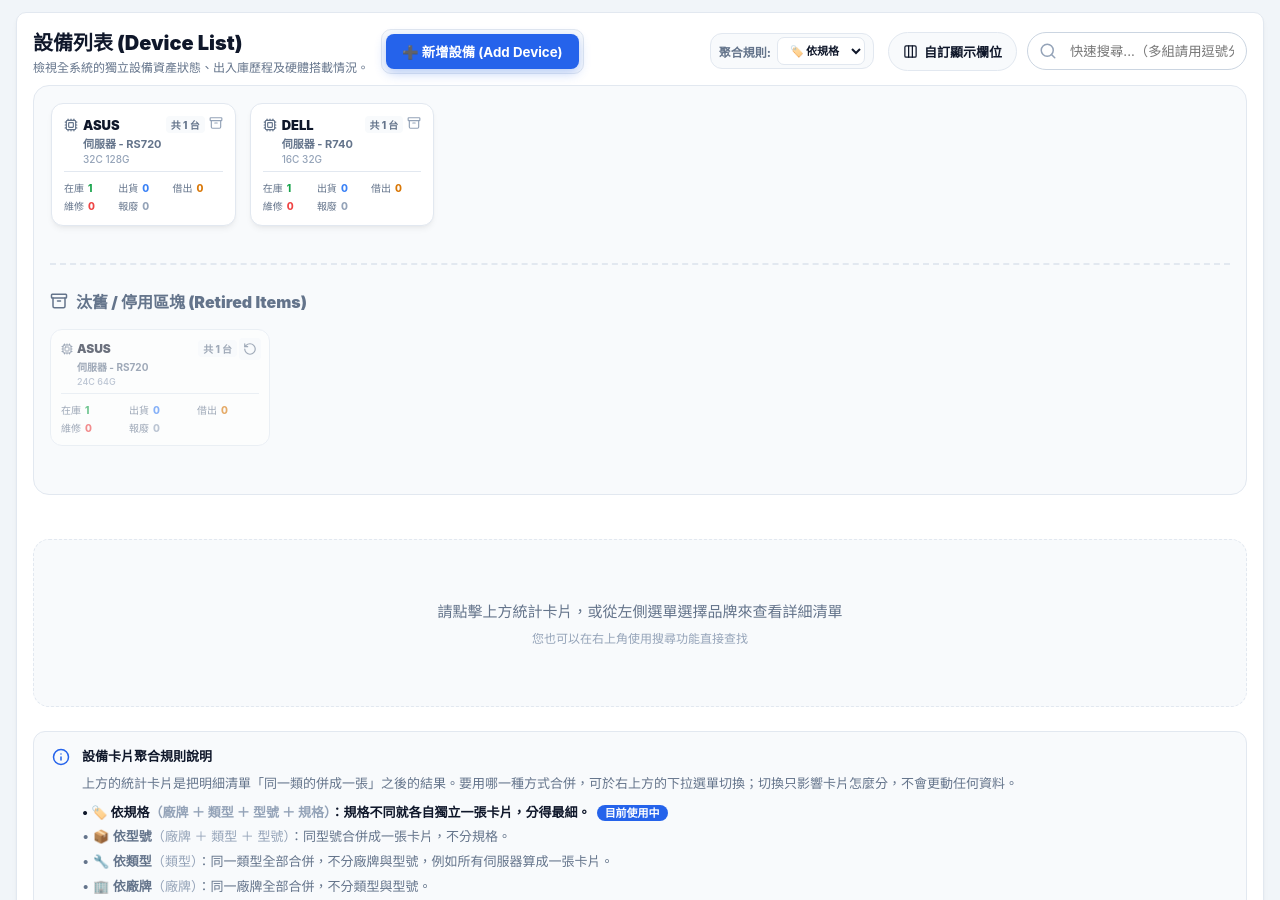
Test: 卡片聚合規則與汰舊區聯動測試 (Card Aggregation & Retire Rules) › DeviceList: 在規格或型號模式下將一項卡片移至汰舊區，改為依廠牌時，汰舊區項目不應被加入使用中卡片計算
Expected: the heading "汰舊 / 停用區塊 (Retired Items)" is shown, [50,292,307,312]
切換為「依廠牌」模式（聚合規則已改為下拉選單）
Select "🏢 依廠牌" in the dropdown labelled "聚合規則:" at (821, 51), box [777,37,865,65]
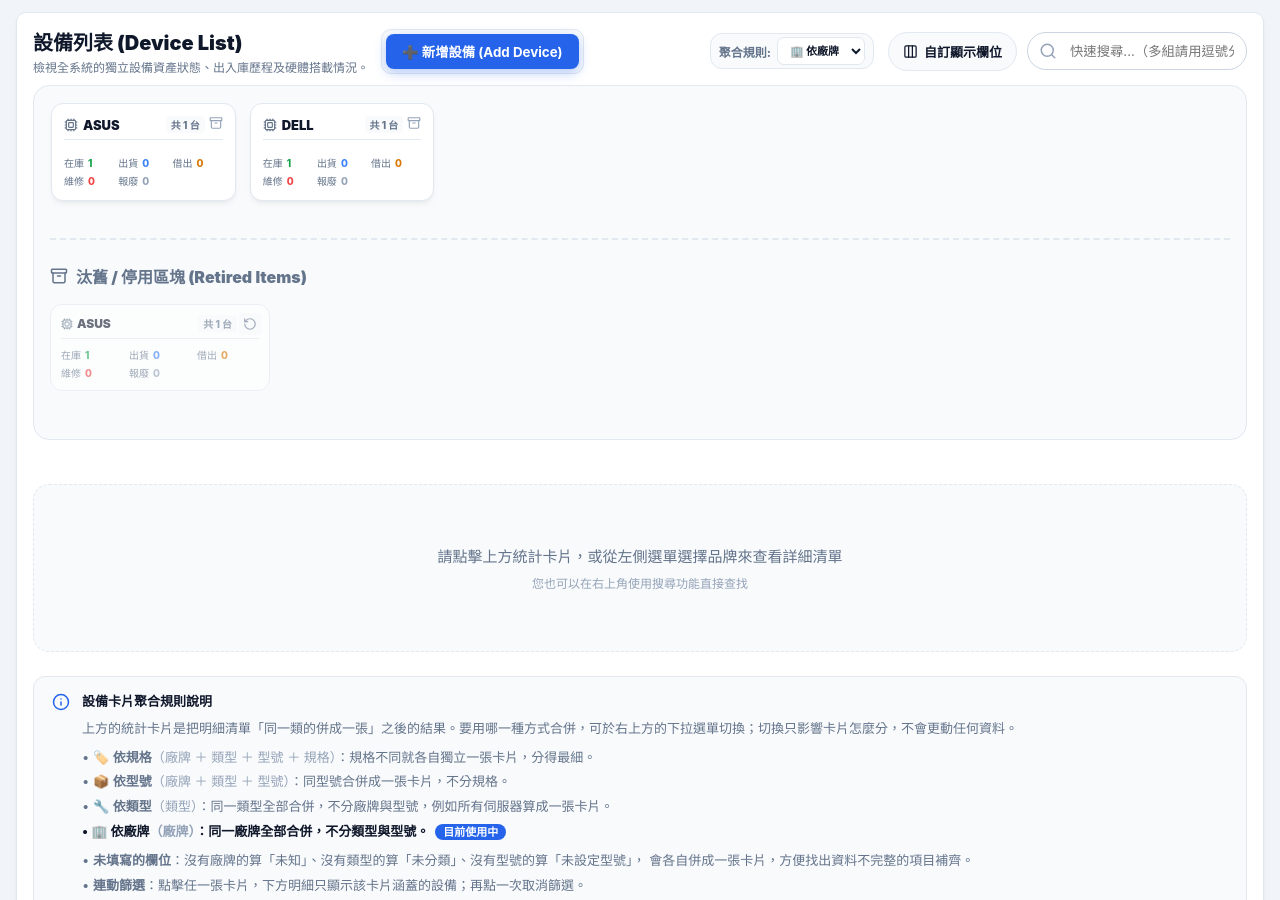
點擊使用中的 ASUS 卡片（點擊第一個「共 1 台」卡片，對應使用中的 ASUS），應過濾出使用中的 ASUS (ASUS-SN-002)，不包含已汰舊的 ASUS-SN-001
Click the 1st text "共 1 台" at (185, 124), box [166,116,205,133]
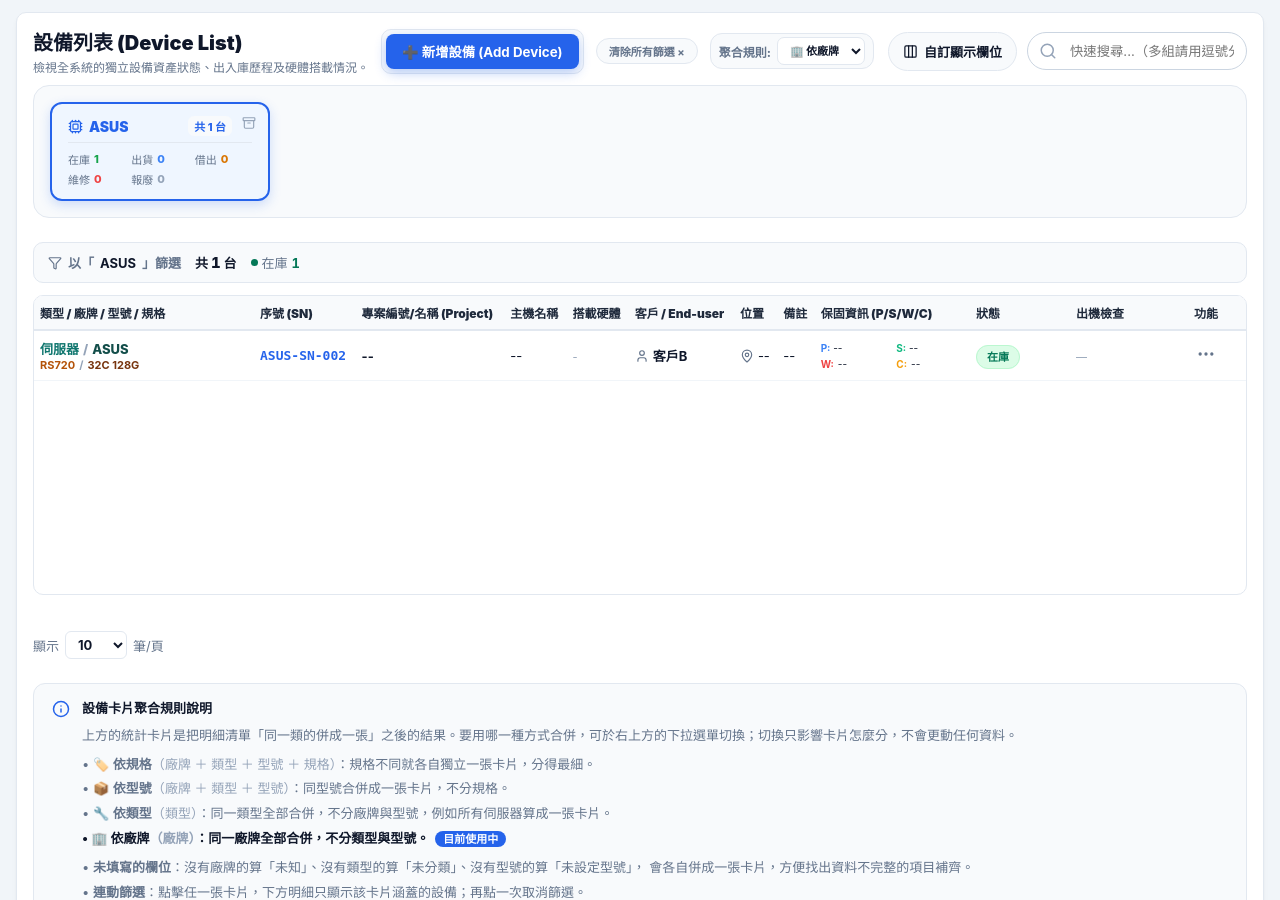
Now the text "ASUS-SN-002" is shown, box [254,330,356,380]
